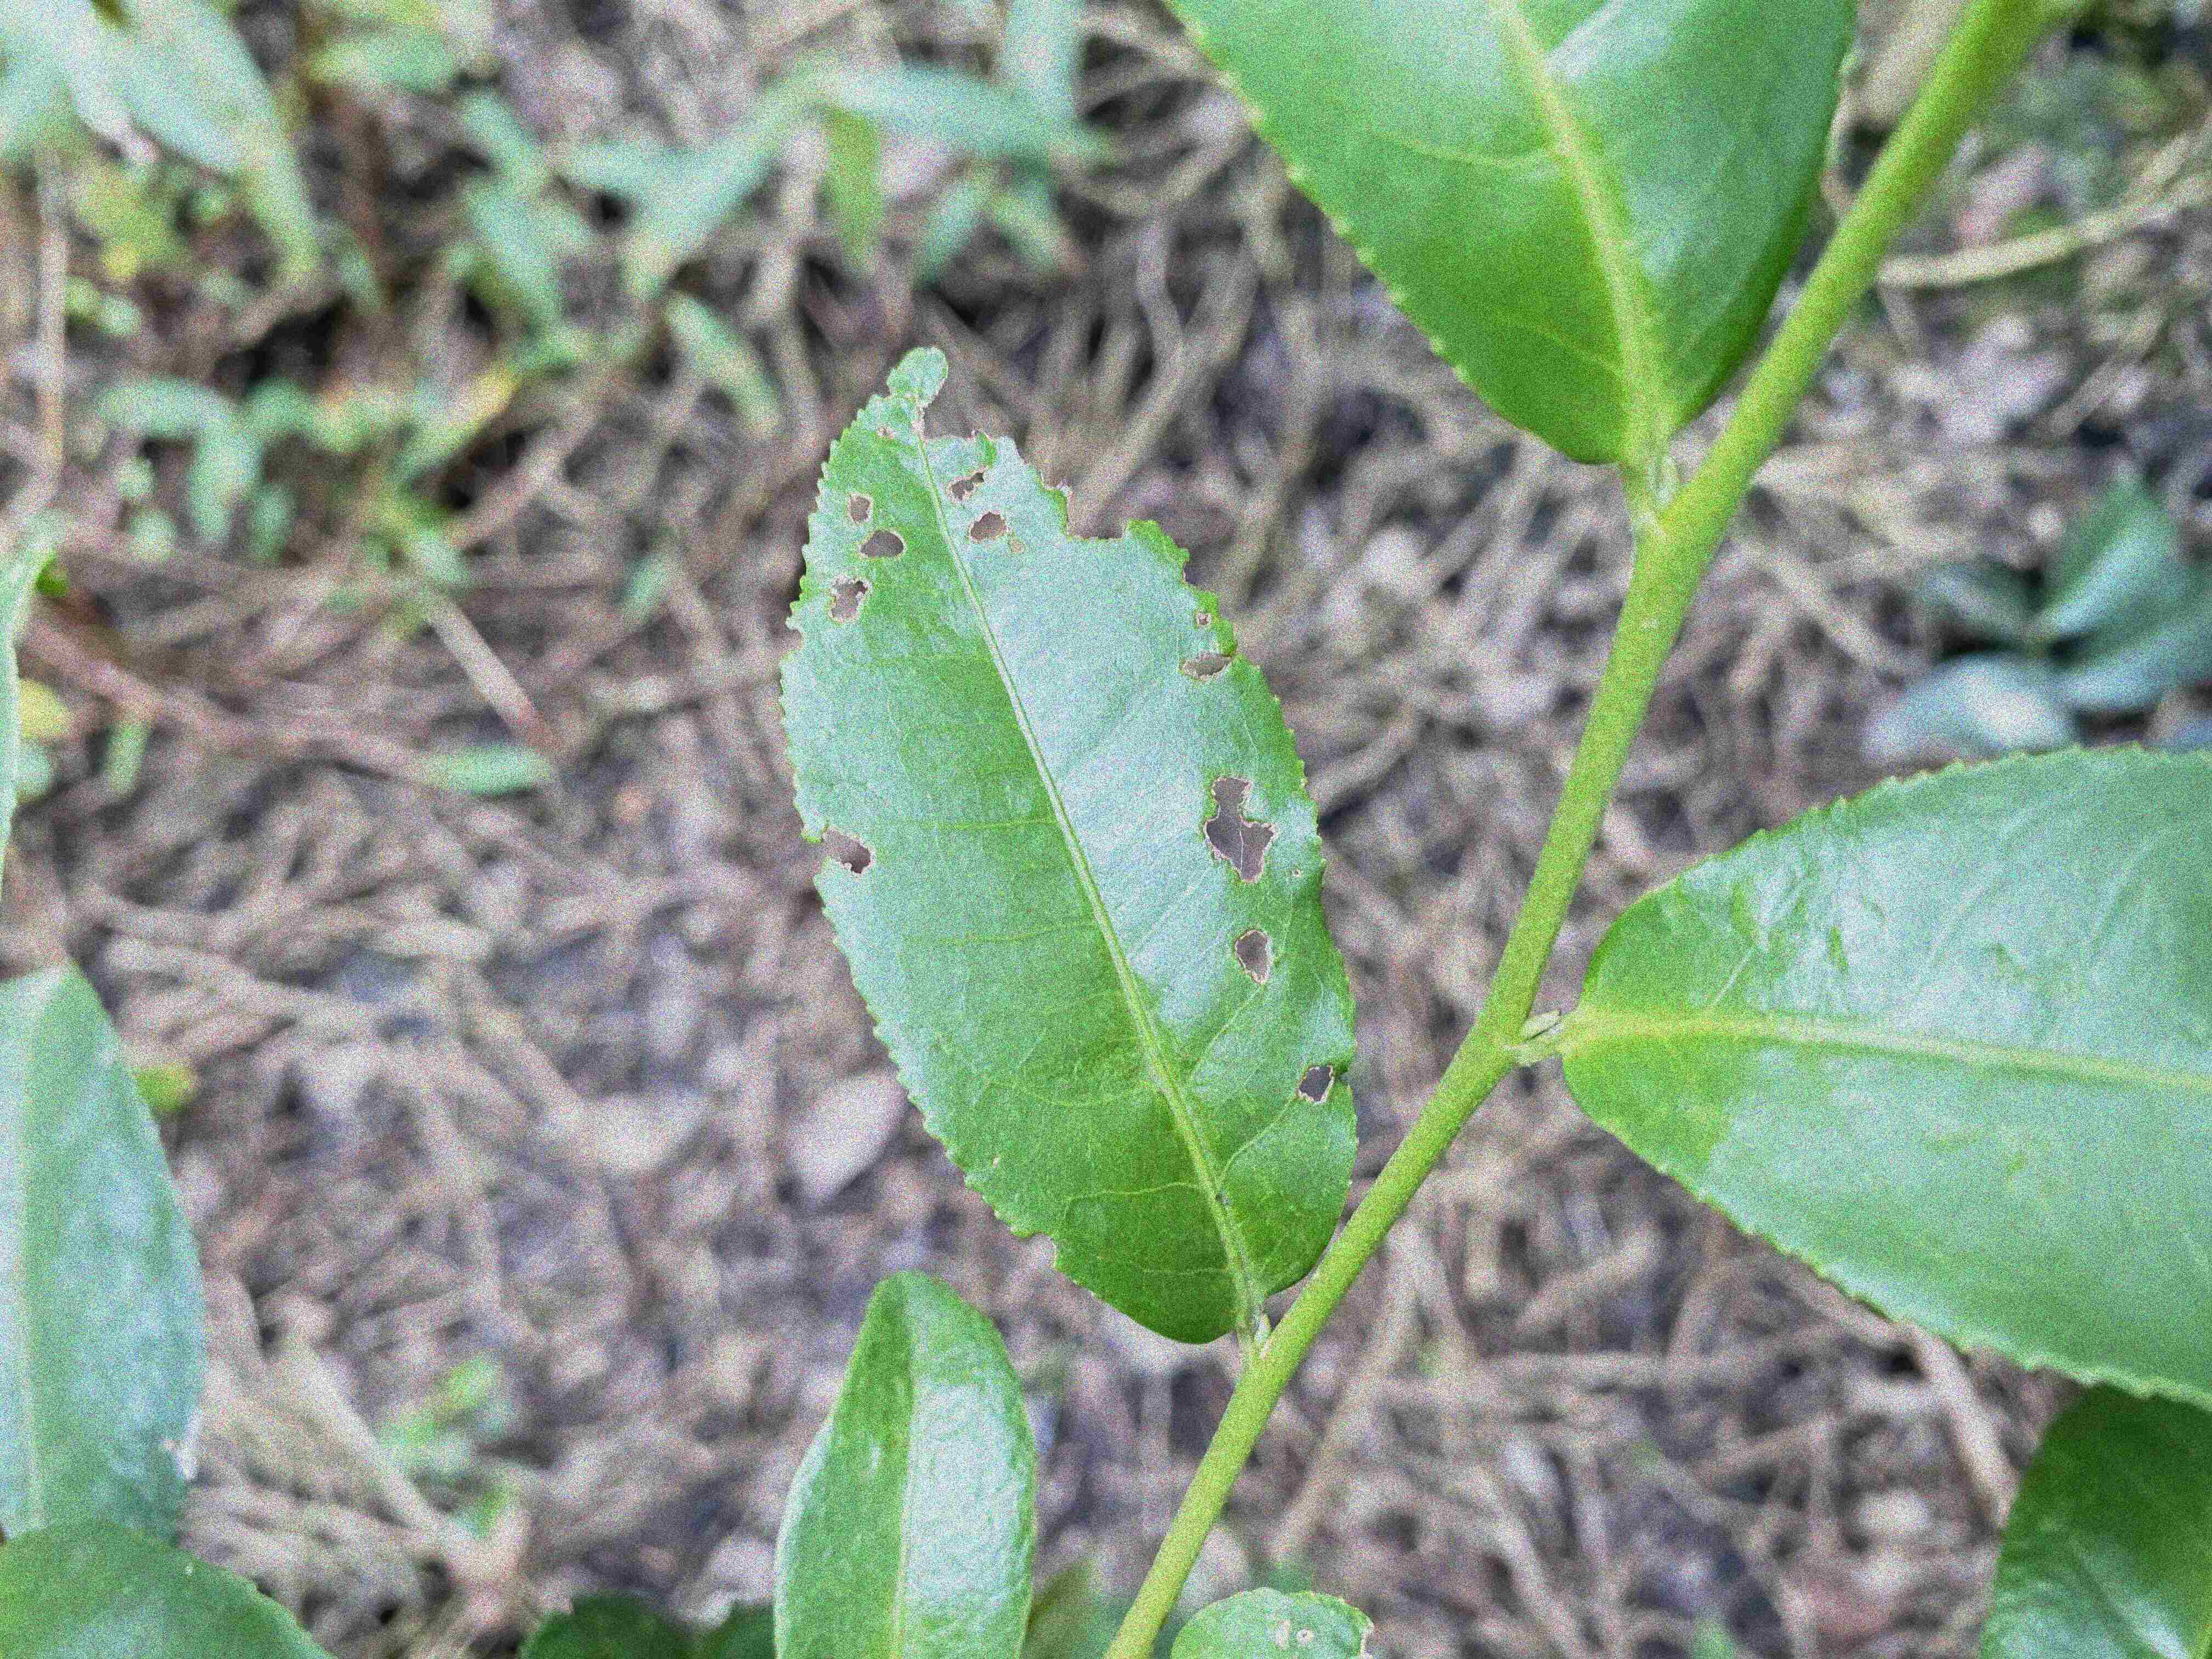chihuo_high: (775, 342, 1364, 1347)
healthy: (1569, 741, 2212, 1406), (765, 1270, 1042, 1657)
